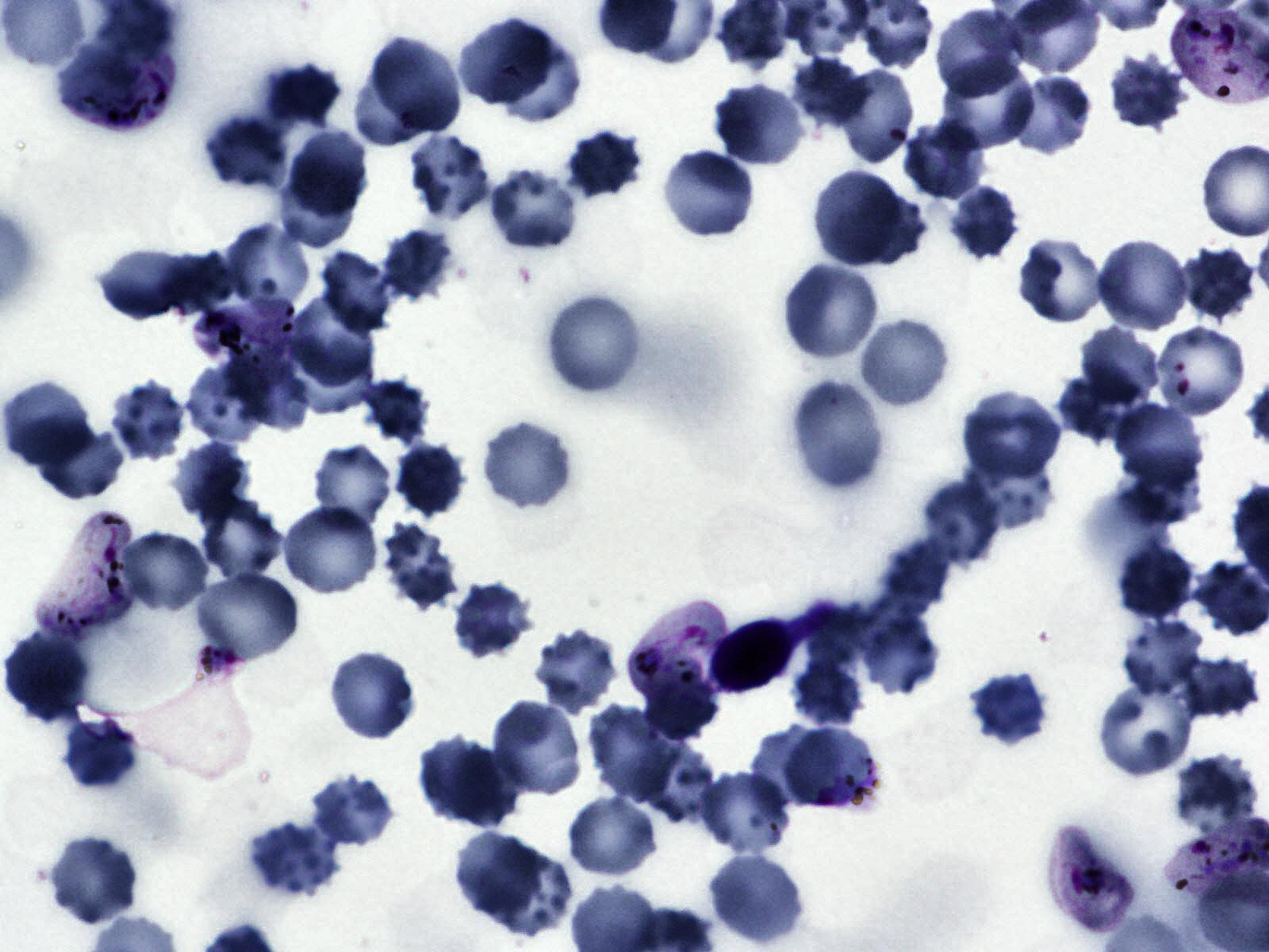Infected: (31, 511, 136, 642), (624, 599, 728, 704), (1043, 824, 1137, 937), (61, 48, 177, 134), (192, 295, 297, 389), (788, 726, 882, 814), (709, 612, 799, 697)
Uninfected: (788, 375, 886, 493), (542, 293, 645, 397), (193, 570, 301, 667), (275, 503, 381, 597), (855, 314, 953, 413), (1151, 324, 1250, 421), (704, 851, 805, 946), (960, 390, 1064, 482), (1101, 678, 1196, 776), (477, 418, 576, 512), (943, 52, 1037, 151), (370, 36, 462, 136), (1094, 237, 1190, 332), (491, 701, 585, 798), (659, 150, 758, 241), (223, 221, 314, 320), (950, 444, 1053, 531), (44, 834, 141, 926), (484, 164, 581, 254), (418, 738, 516, 827), (492, 33, 584, 127), (355, 51, 446, 146), (1014, 235, 1108, 326), (834, 67, 918, 168), (486, 848, 578, 940), (931, 9, 1022, 102), (114, 529, 211, 616), (0, 380, 93, 470), (591, 704, 674, 804), (697, 770, 794, 855), (325, 652, 416, 742), (4, 629, 90, 724), (451, 831, 541, 921), (713, 83, 807, 167), (409, 132, 493, 225), (285, 128, 370, 219), (1003, 73, 1095, 157), (815, 171, 899, 263), (96, 248, 197, 324), (458, 18, 548, 103), (568, 797, 659, 881), (750, 724, 837, 811), (310, 443, 395, 532), (920, 478, 1005, 566), (1116, 396, 1202, 482), (184, 363, 273, 446), (534, 631, 620, 716), (861, 611, 941, 701), (226, 347, 310, 432), (900, 121, 987, 203), (293, 297, 374, 385), (35, 424, 125, 503), (202, 501, 282, 589), (290, 332, 375, 414), (58, 708, 140, 792), (791, 270, 872, 355), (280, 158, 358, 246), (378, 525, 459, 609), (203, 117, 291, 194), (1115, 539, 1196, 622), (836, 192, 928, 265), (638, 743, 721, 823), (109, 382, 189, 463), (1105, 52, 1187, 131), (1175, 755, 1257, 834), (450, 582, 533, 660), (1121, 618, 1204, 696), (251, 823, 338, 897), (1079, 325, 1160, 404), (309, 776, 396, 849), (1178, 243, 1256, 323), (970, 670, 1051, 747), (789, 55, 871, 131), (879, 536, 950, 623), (1054, 372, 1142, 442), (1121, 450, 1202, 526), (318, 251, 393, 333), (393, 440, 467, 520), (565, 128, 645, 202), (175, 446, 255, 519), (791, 654, 871, 727), (381, 228, 456, 304), (262, 60, 343, 129), (1178, 654, 1260, 721), (803, 605, 877, 679), (952, 185, 1022, 259), (159, 250, 234, 316), (359, 377, 427, 449)
